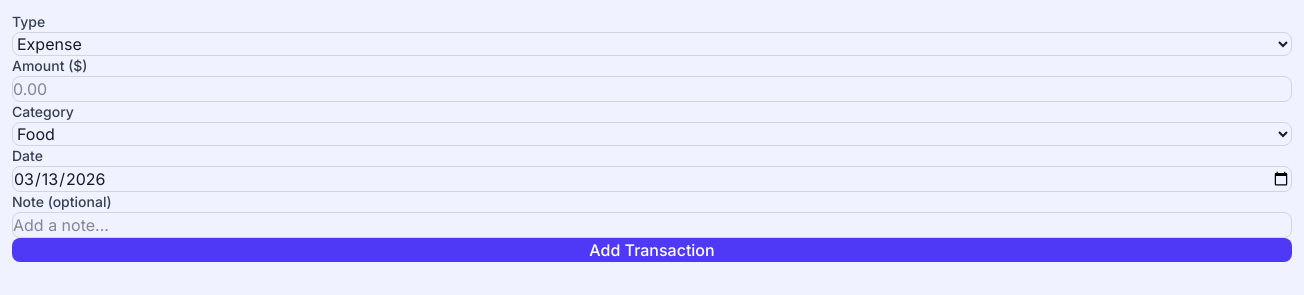
Test: TransactionForm › shows validation error for zero amount
This screenshot has width=1304, height=295.
// Use fireEvent.change for reliable number input control
Step 1. Type "0" into the number field named "amount" → (652, 89), box [12,76,1292,102]
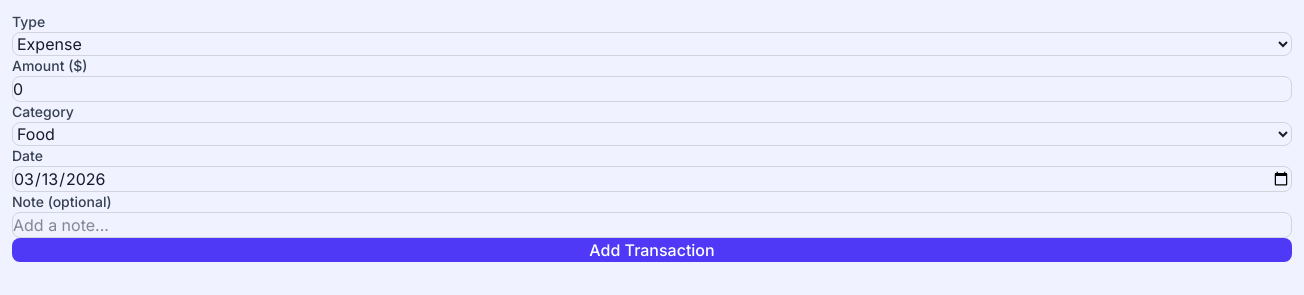
Step 2. Click the button "Add Transaction" → (652, 250), box [12,238,1292,262]
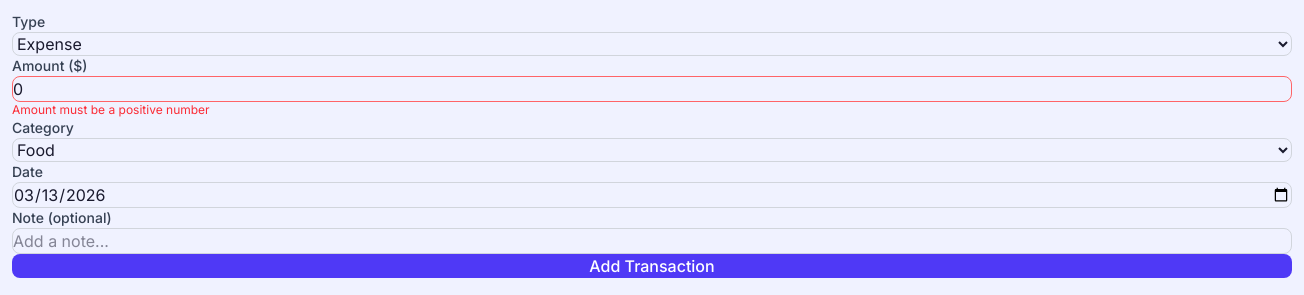
Expected: the message "Amount must be a positive number" is shown, [12,102,210,117]
